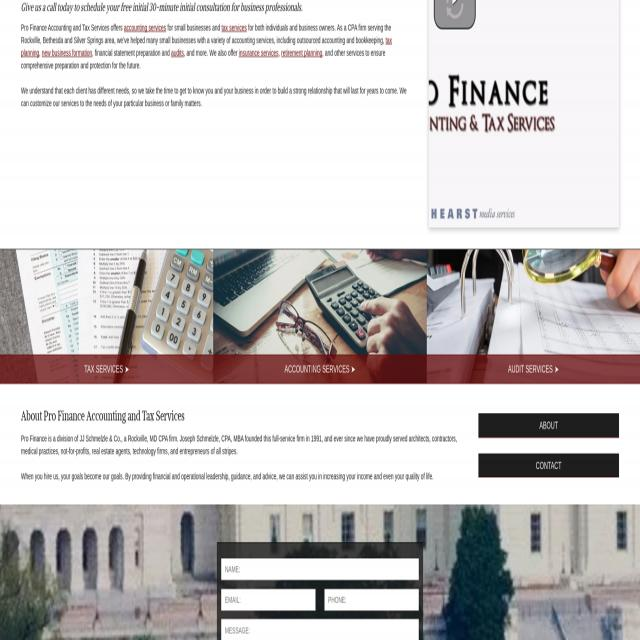button: (426, 354, 640, 384), (0, 354, 213, 384), (214, 354, 426, 384), (478, 412, 619, 438), (478, 452, 619, 478)
field: (221, 559, 419, 580), (222, 619, 418, 640), (222, 589, 316, 610), (324, 589, 418, 610)
